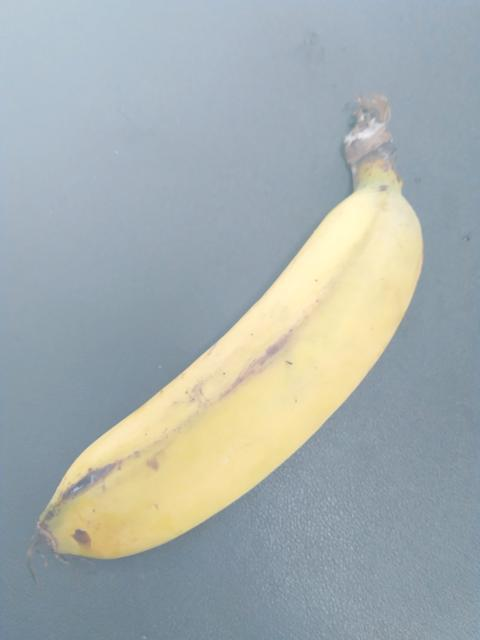freshripe: (40, 203, 413, 573)
